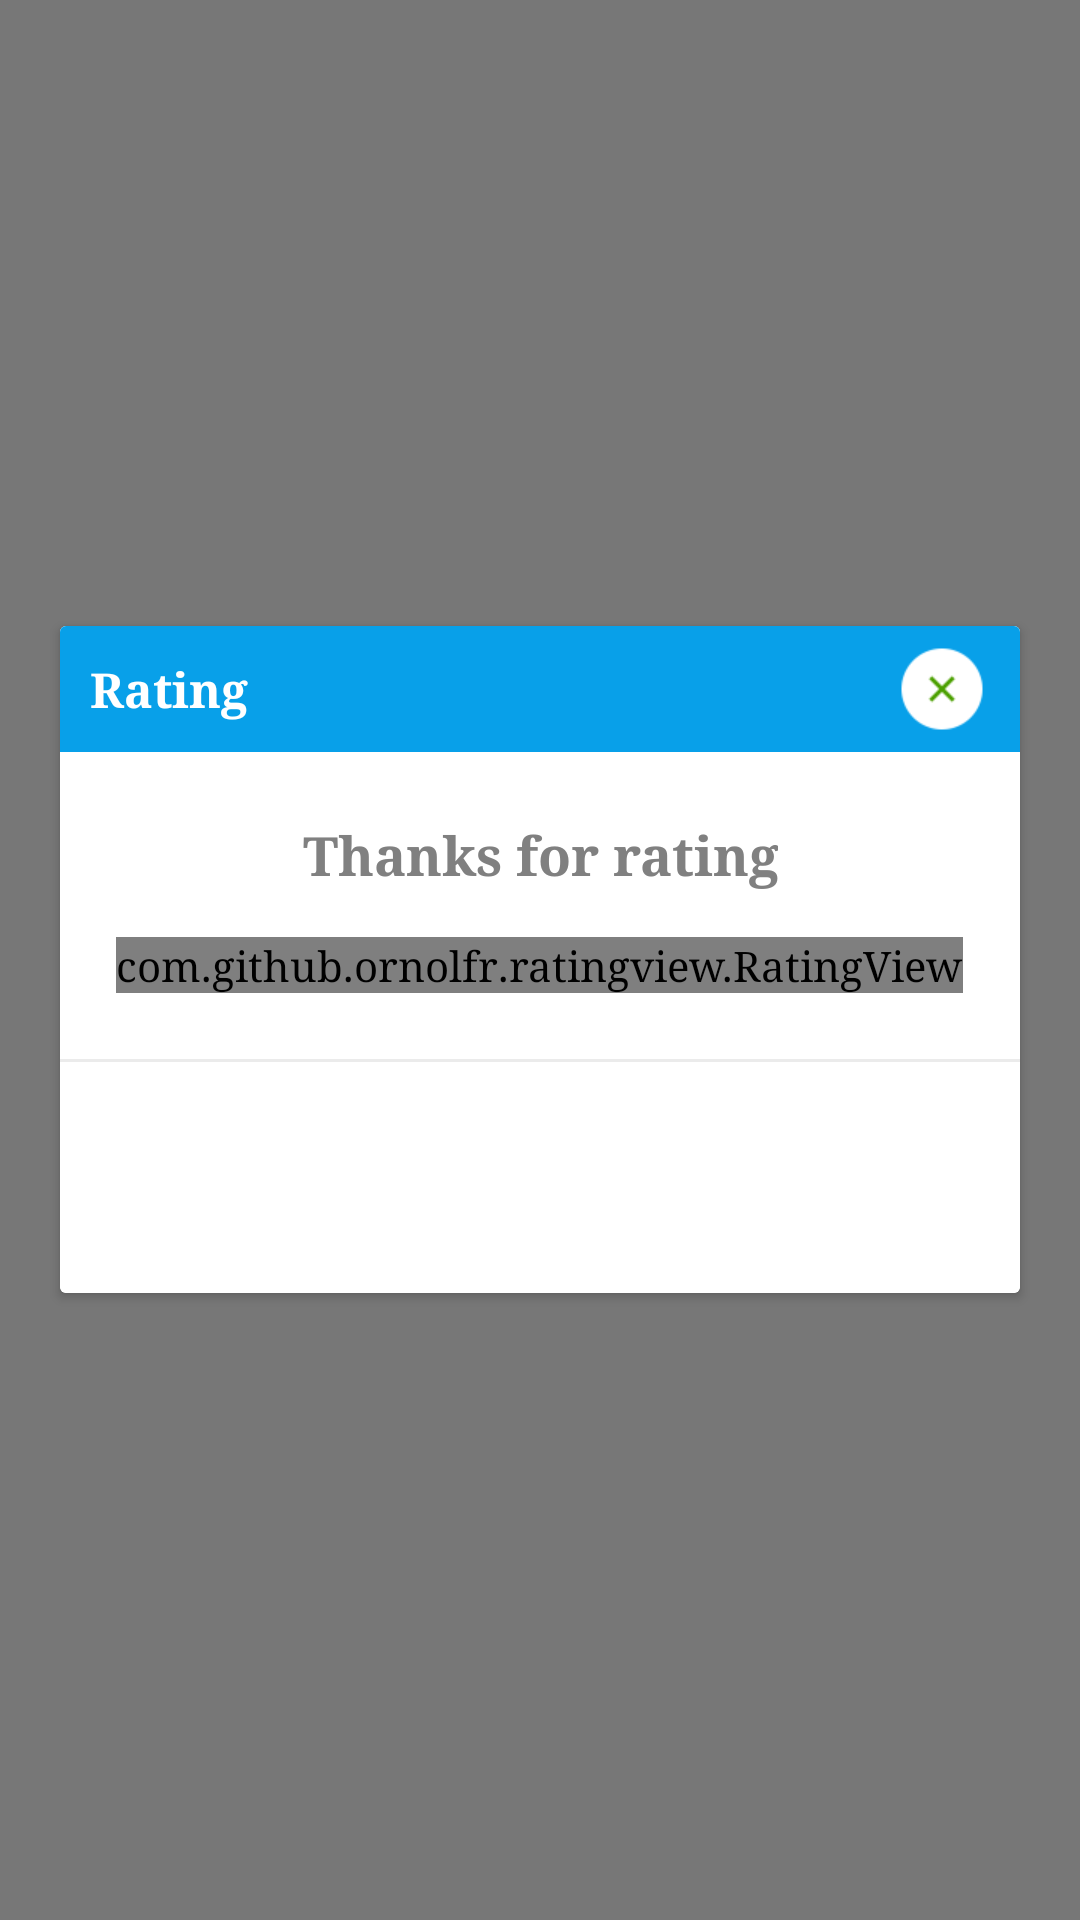

Point at icon controls on the screen. Image size 1080 x 1920, points as [x,y].
close: [942,689]
